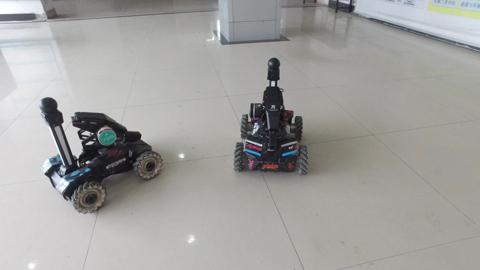chariot: (33, 91, 164, 220), (224, 55, 315, 178)
